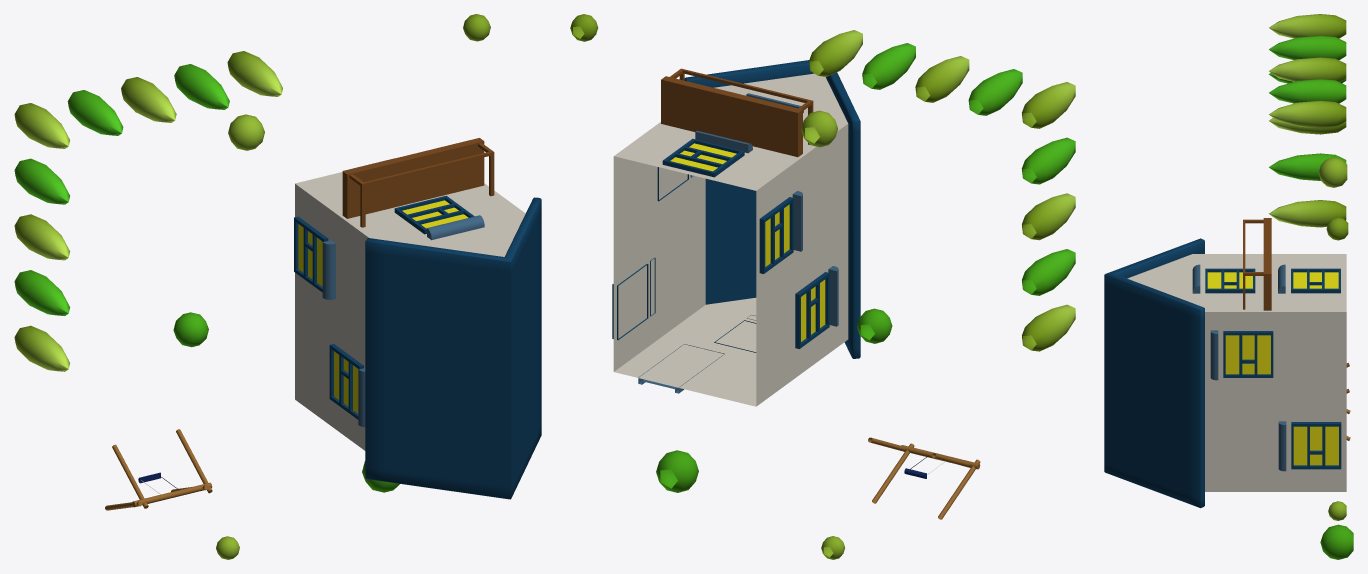
The model's file is Simple_House_03_01.fbx.
3 views of the same model, side by side, from view 1: azimuth 30°, elevation 25°; view 2: azimuth 150°, elevation 25°; view 3: azimuth 270°, elevation 25° (orthographic). The views are drawn at different scales.
Parts seen in each view (by area): view 1: Simple_House_03_01; view 2: Simple_House_03_01; view 3: Simple_House_03_01.
Part boxes in pixels (left/top/right/bottom): Simple_House_03_01: left=14, top=14, right=541, bottom=559; Simple_House_03_01: left=570, top=14, right=1075, bottom=559; Simple_House_03_01: left=1104, top=14, right=1353, bottom=559.
Bounding box in the file's own units: 179 × 182 × 97.21.
